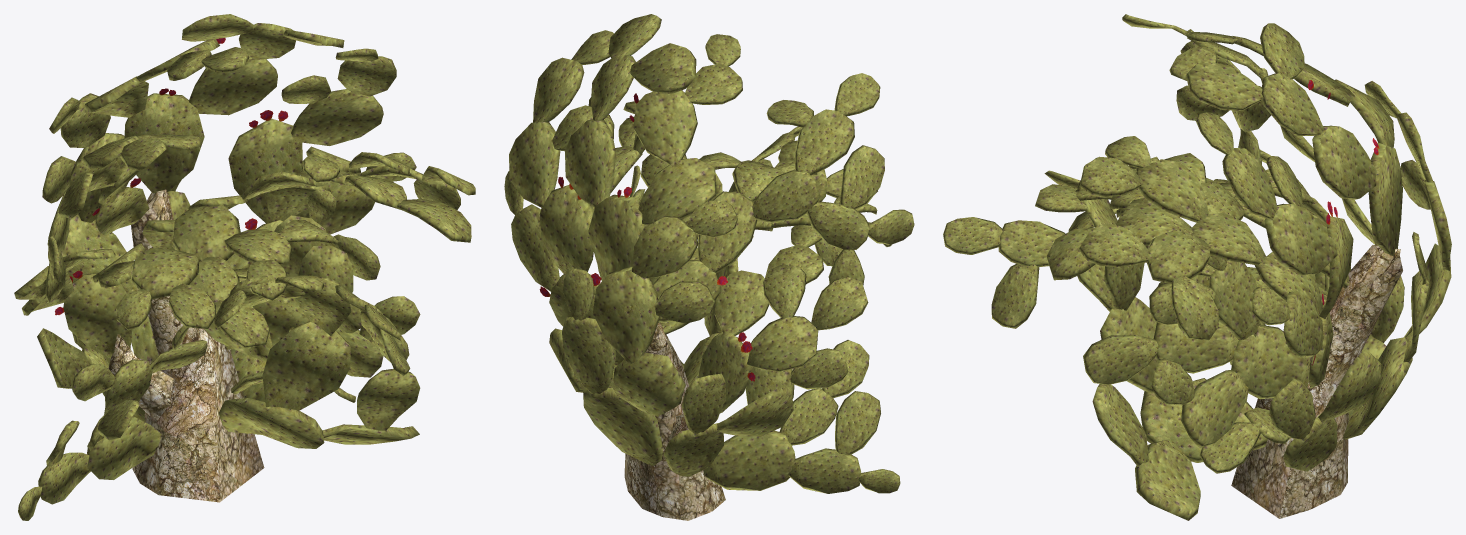
File: Model_Cactus_Bush_02.fbx
3 renders of one model, left to right at view 1: azimuth 30°, elevation 25°; view 2: azimuth 150°, elevation 25°; view 3: azimuth 270°, elevation 25°, orthographic. The views are drawn at different scales.
Visible parts, largest first — view 1: Cactus_Bush_02_LOD0; view 2: Cactus_Bush_02_LOD0; view 3: Cactus_Bush_02_LOD0.
Part boxes in pixels (x1,y1,x2,y2): Cactus_Bush_02_LOD0: [14, 14, 475, 520]; Cactus_Bush_02_LOD0: [504, 14, 914, 520]; Cactus_Bush_02_LOD0: [943, 14, 1451, 520].
Size of what is drawn, in the model's own units: 267 by 287 by 284.
